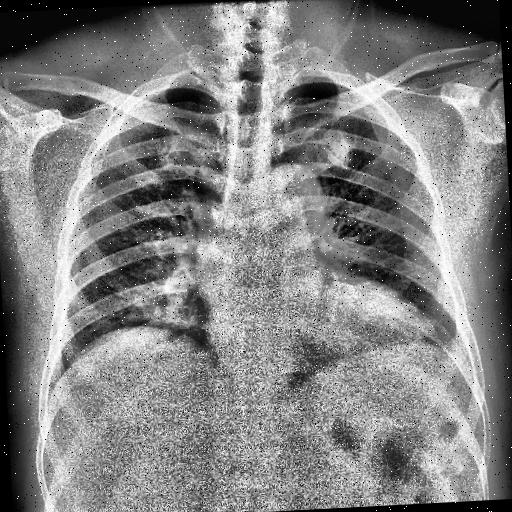0- Aortic enlargement: (249, 156, 325, 243), (264, 165, 325, 245), (264, 162, 325, 233)
3- Cardiomegaly: (197, 291, 437, 379), (195, 264, 432, 348), (204, 294, 434, 364)
